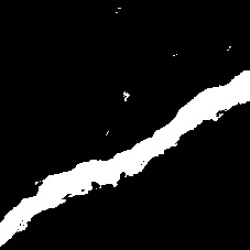crack: (2, 71, 246, 246)
pinhole: (121, 89, 132, 103), (168, 51, 180, 61), (226, 44, 236, 51), (105, 128, 112, 138), (115, 8, 122, 15)
